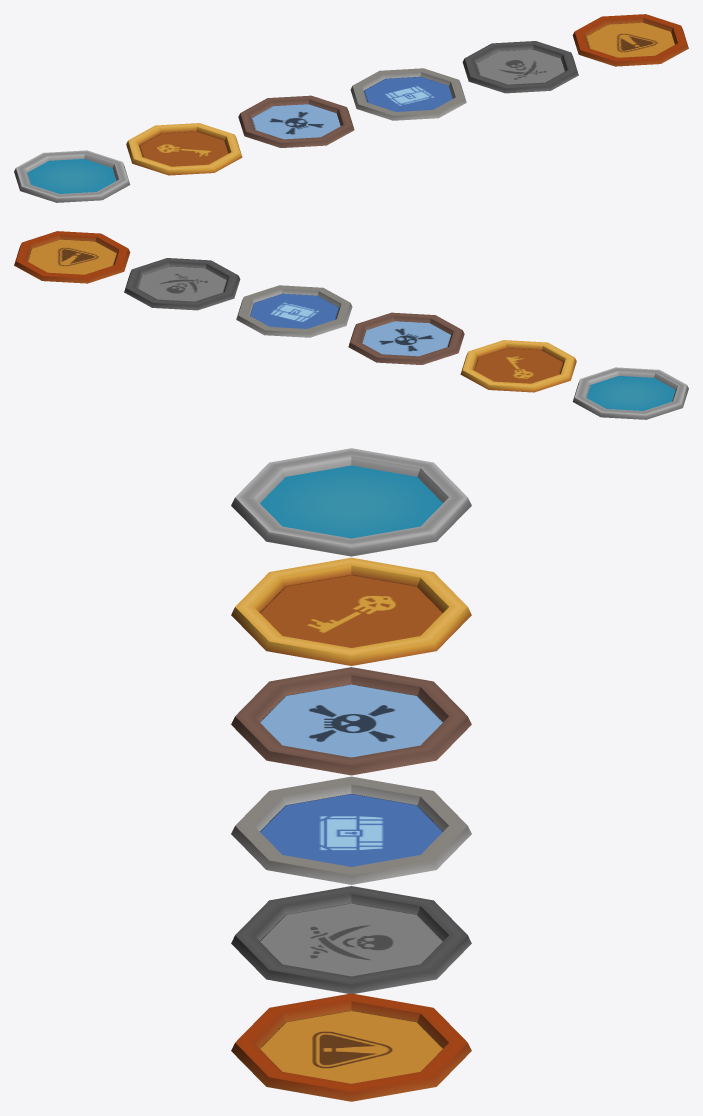
Rendered from locations.glb.
3 renders of one model, top to bottom at view 1: azimuth 30°, elevation 25°; view 2: azimuth 150°, elevation 25°; view 3: azimuth 270°, elevation 25°, orthographic. The views are drawn at different scales.
Parts seen in each view (by area): view 1: Cylinder016, Cylinder019, Cylinder017, Cylinder020, Cylinder021, Cylinder018; view 2: Cylinder016, Cylinder019, Cylinder017, Cylinder020, Cylinder021, Cylinder018; view 3: Cylinder016, Cylinder018, Cylinder020, Cylinder021, Cylinder019, Cylinder017.
Part boxes in pixels (x1,y1,x2,y2): Cylinder016: (14, 150, 130, 202); Cylinder019: (350, 68, 466, 120); Cylinder017: (126, 123, 242, 175); Cylinder020: (462, 41, 578, 93); Cylinder021: (572, 14, 688, 66); Cylinder018: (238, 95, 354, 147); Cylinder016: (572, 367, 688, 419); Cylinder019: (236, 285, 352, 337); Cylinder017: (460, 340, 576, 392); Cylinder020: (124, 258, 240, 310); Cylinder021: (14, 231, 130, 283); Cylinder018: (348, 312, 464, 364); Cylinder016: (231, 448, 471, 556); Cylinder018: (231, 667, 471, 775); Cylinder020: (231, 886, 471, 993); Cylinder021: (231, 993, 471, 1101); Cylinder019: (231, 776, 471, 884); Cylinder017: (231, 557, 471, 665).
Bounding box in the file's own units: 7.83 × 0.0471 × 1.23.
6 materials, 6 textured.
